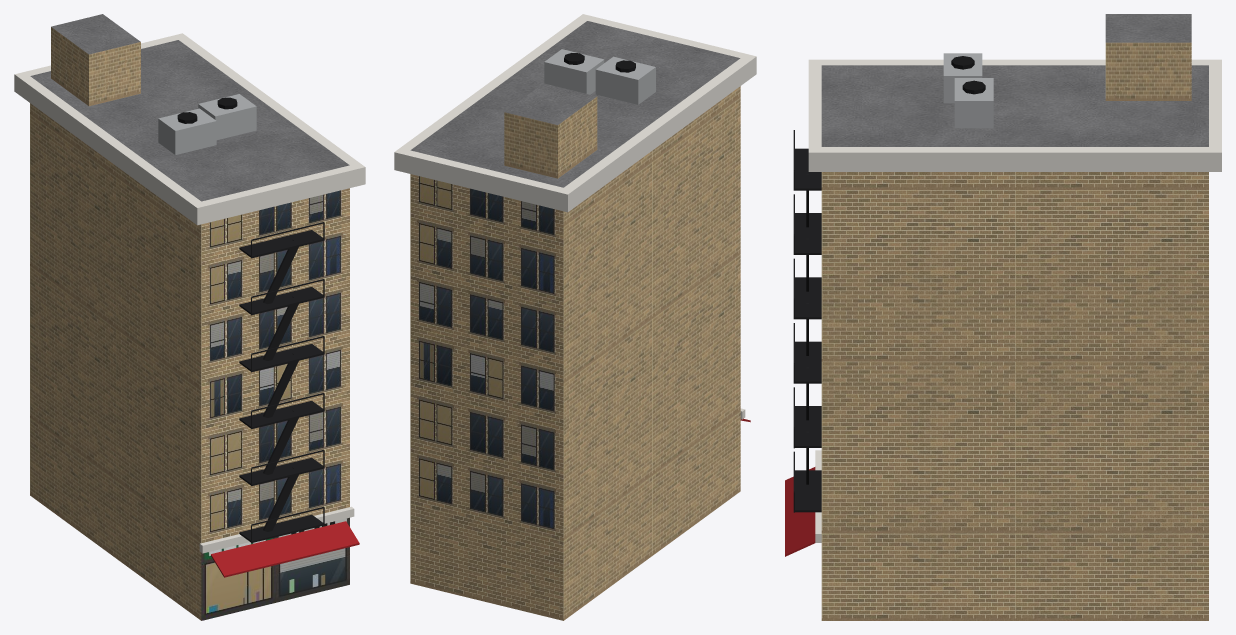
Rendered from 008_tenement_tan.glb.
3 views of the same model, side by side, from view 1: azimuth 30°, elevation 25°; view 2: azimuth 150°, elevation 25°; view 3: azimuth 270°, elevation 25° (orthographic). The views are drawn at different scales.
Visible parts, largest first — view 1: 008_tenement_tan; view 2: 008_tenement_tan; view 3: 008_tenement_tan.
Boxes of the visible parts, left/top/right/bottom form: 008_tenement_tan: left=14, top=14, right=365, bottom=620; 008_tenement_tan: left=394, top=14, right=756, bottom=620; 008_tenement_tan: left=785, top=14, right=1221, bottom=620.
Bounding box in the file's own units: 10.2 × 27.3 × 20.3.
Materials: 9 (4 with a texture image).
